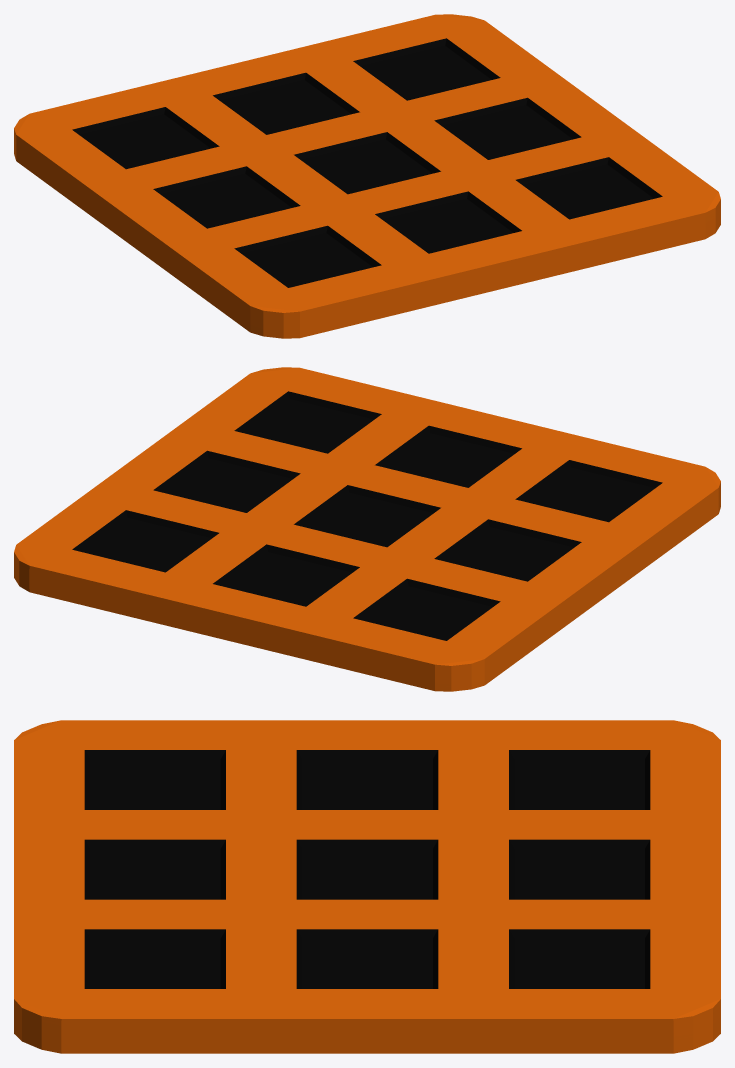
File: arrowsObstacle.fbx
The picture shows the model from 3 angles, top to bottom: view 1: azimuth 30°, elevation 25°; view 2: azimuth 150°, elevation 25°; view 3: azimuth 270°, elevation 25°; orthographic projection. The views are drawn at different scales.
Parts seen in each view (by area): view 1: Cube, Cube.001; view 2: Cube, Cube.001; view 3: Cube, Cube.001.
Boxes of the visible parts, x1=… form: Cube: x1=14, y1=14, x2=720, y2=338; Cube.001: x1=72, y1=38, x2=662, y2=287; Cube: x1=14, y1=367, x2=720, y2=691; Cube.001: x1=72, y1=391, x2=662, y2=640; Cube: x1=14, y1=720, x2=720, y2=1053; Cube.001: x1=84, y1=750, x2=650, y2=988.
Bounding box in the file's own units: 200 × 10.85 × 200.
